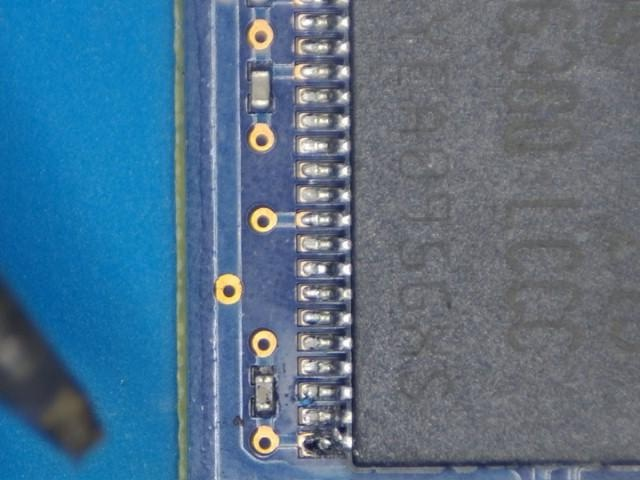pcb_defect: (300, 407, 354, 454)
